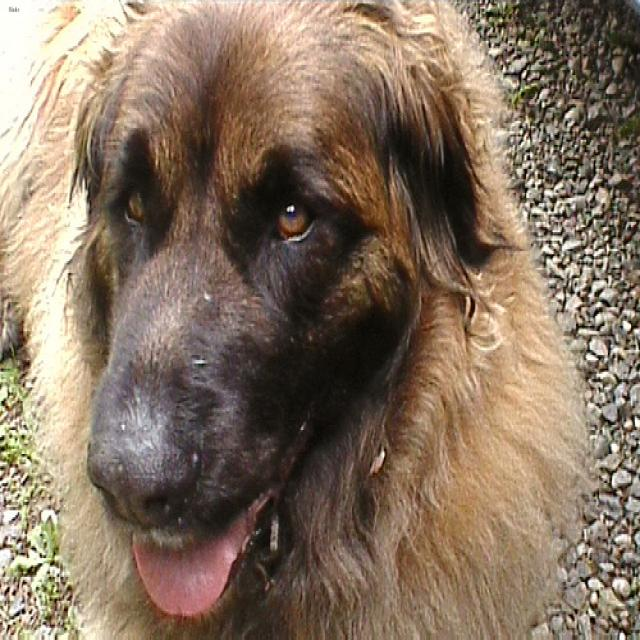dog-leonberger: (1, 2, 603, 637)
